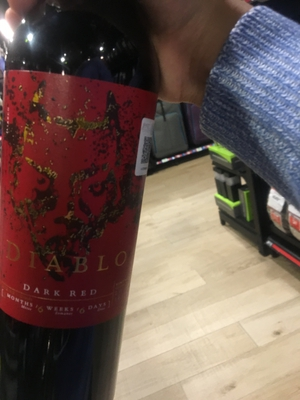diablo dark red: (2, 24, 167, 399)
